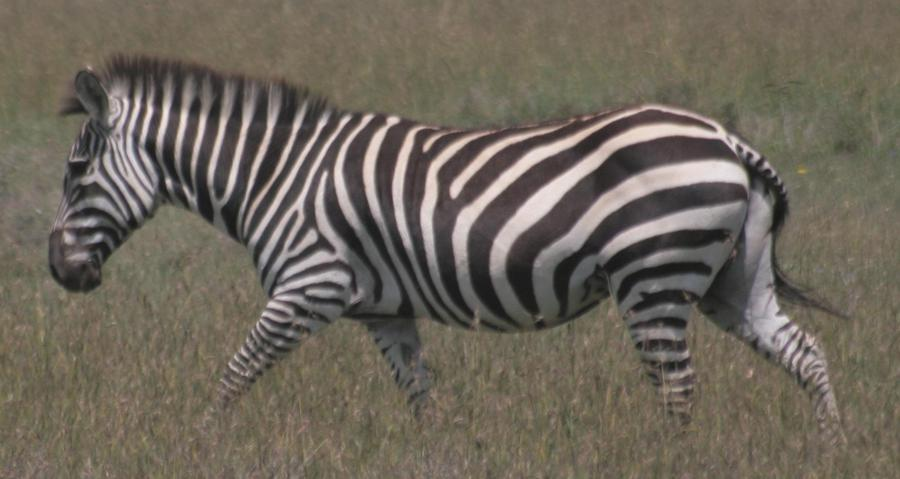zebra_plains: (234, 86, 748, 350)
